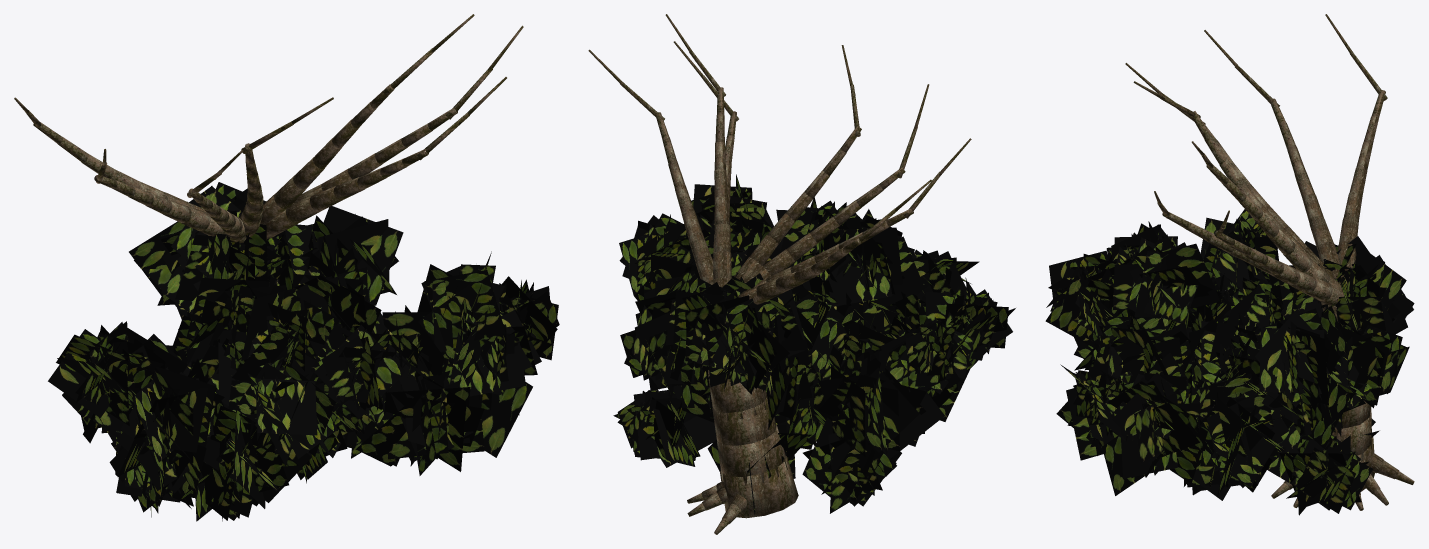
Rendered from giant_3.glb.
The picture shows the model from 3 angles, left to right: view 1: azimuth 30°, elevation 25°; view 2: azimuth 150°, elevation 25°; view 3: azimuth 270°, elevation 25°; orthographic projection. The views are drawn at different scales.
Visible parts, largest first — view 1: giant; view 2: giant; view 3: giant.
Boxes of the visible parts, bbox=[...] form: giant: bbox=[14, 14, 559, 521]; giant: bbox=[588, 14, 1015, 534]; giant: bbox=[1045, 14, 1414, 515].
Size of the model in its own units: 19 by 18.93 by 14.95.
2 materials, 2 textured.
